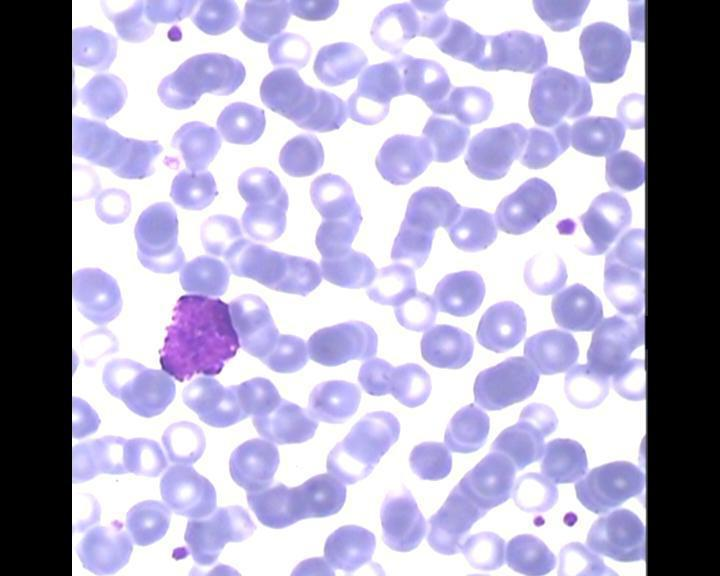baso: (155, 288, 244, 383)
